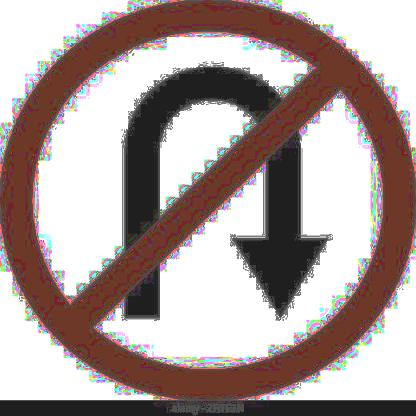No U-turn: (0, 6, 416, 398)
